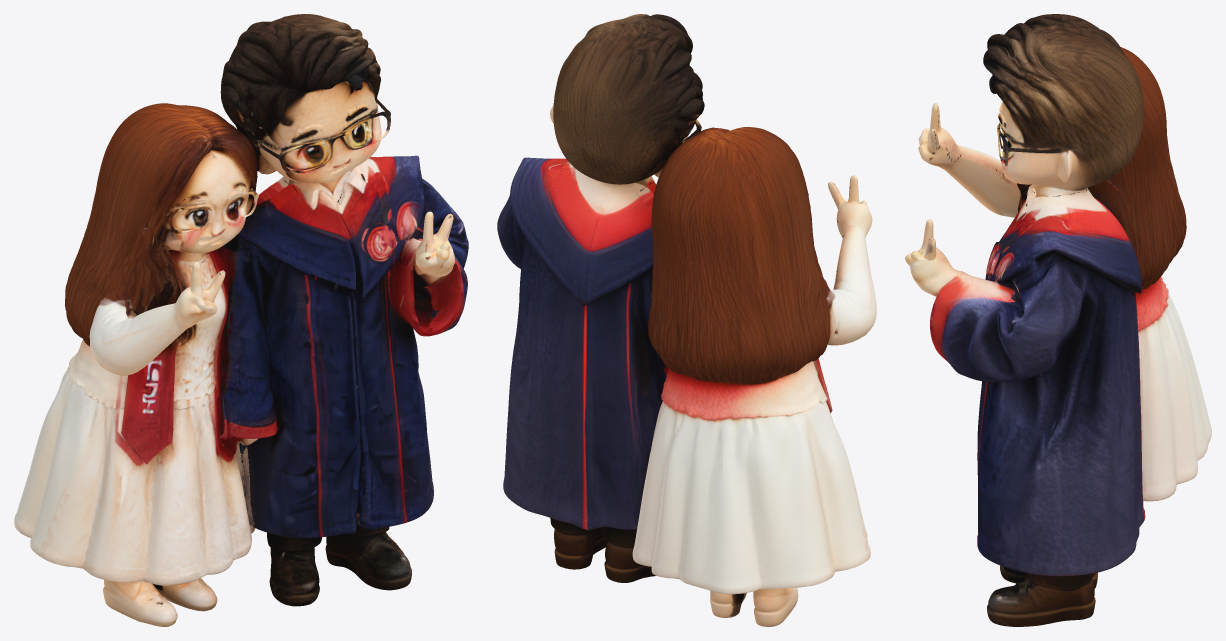
The model's file is figure2.glb.
3 renders of one model, left to right at view 1: azimuth 30°, elevation 25°; view 2: azimuth 150°, elevation 25°; view 3: azimuth 270°, elevation 25°, orthographic. The views are drawn at different scales.
Visible parts, largest first — view 1: model; view 2: model; view 3: model.
Part boxes in pixels (left/top/right/bottom): model: left=14, top=14, right=468, bottom=626; model: left=497, top=14, right=876, bottom=626; model: left=905, top=14, right=1211, bottom=626.
Size of the model in its own units: 1.41 by 1.9 by 0.946.
Materials: 1 (1 with a texture image).
